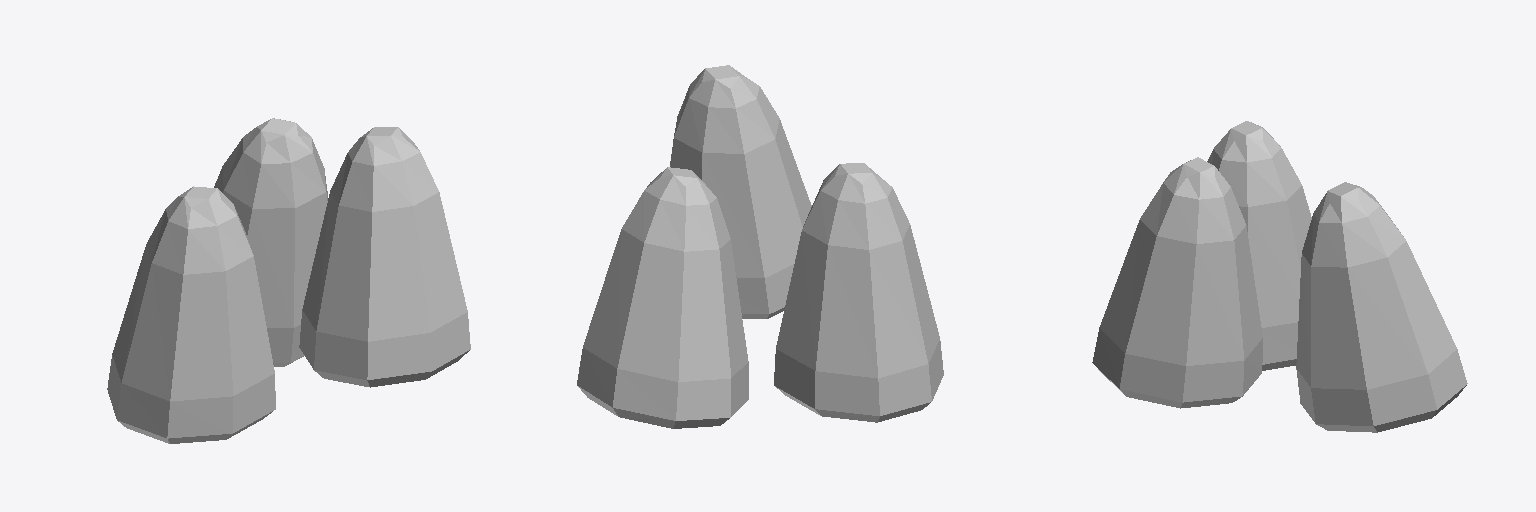
File: pumpkincandy3x.obj
3 views of the same model, side by side, from view 1: azimuth 30°, elevation 25°; view 2: azimuth 150°, elevation 25°; view 3: azimuth 270°, elevation 25° (orthographic).
Visible parts, largest first — view 1: Cube.003; view 2: Cube.003; view 3: Cube.003.
Part boxes in pixels (left/top/right/bottom): Cube.003: left=107, top=118, right=470, bottom=443; Cube.003: left=577, top=65, right=943, bottom=428; Cube.003: left=1092, top=121, right=1467, bottom=432.
Size of the model in its own units: 1.01 by 0.8581 by 1.09.